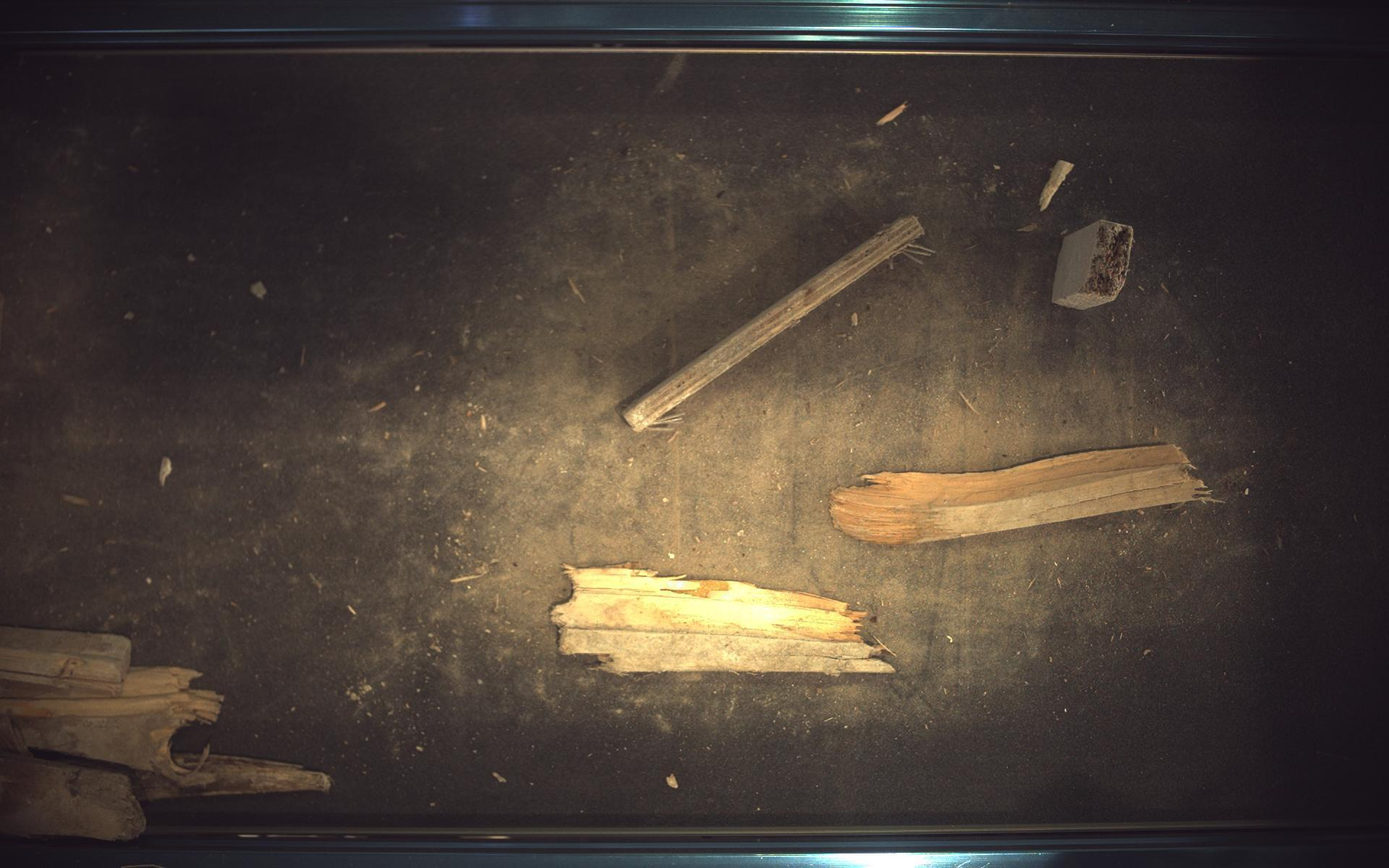wood: (623, 215, 925, 432), (832, 444, 1213, 545), (552, 566, 896, 676), (1054, 218, 1137, 309)
